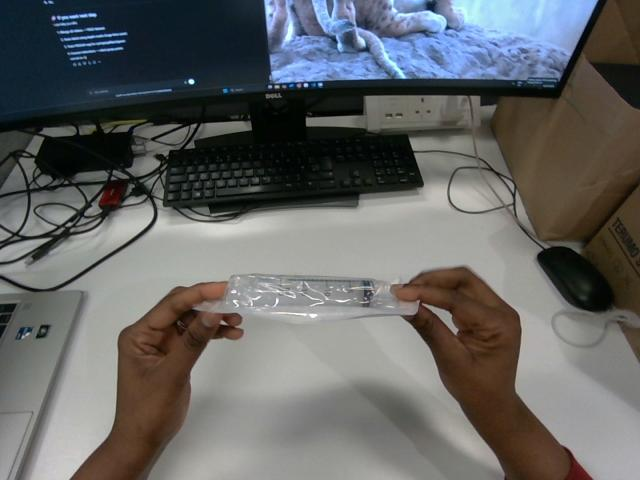syringe: (193, 274, 418, 323)
